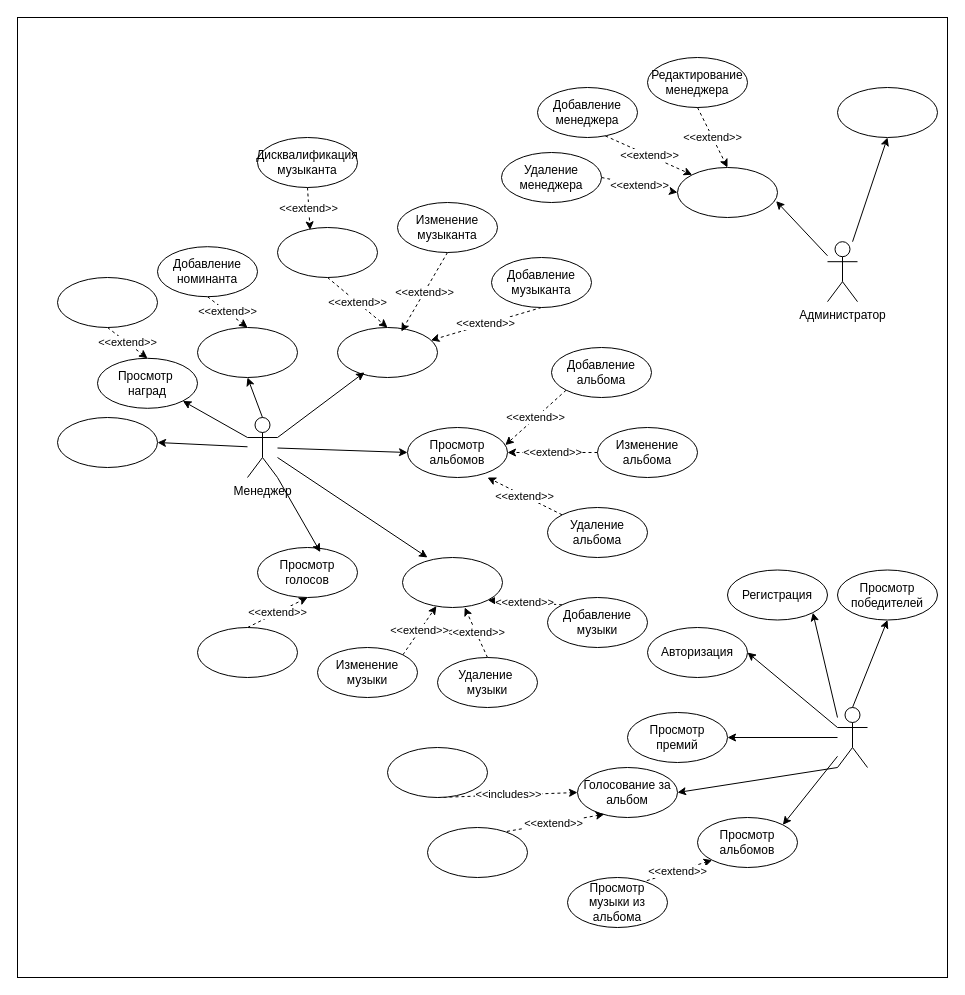
Some shapes in this 965 by 995 pixel diagram are drawn without their labels. The shapes that lost their labels are listed below. From the top down, each one's box as (x1, y1, x2, y2) in pixels, then its label:
(836, 86, 938, 138): Импорт/экспорт JSON
(676, 166, 778, 218): Просмотр менеджеров
(276, 226, 378, 278): Удаление музыканта
(56, 276, 158, 328): Изменение наград
(196, 326, 298, 378): Просмотр номинантов
(336, 326, 438, 378): Просмотр музыкантов
(56, 416, 158, 468): Подсчет победителей
(402, 556, 502, 608): Просмотр музыки
(196, 626, 298, 678): Удаление голоса
(836, 706, 868, 768): Гость
(386, 746, 488, 798): Добавление комментария
(426, 826, 528, 878): Просмотр комментариев на альбом
